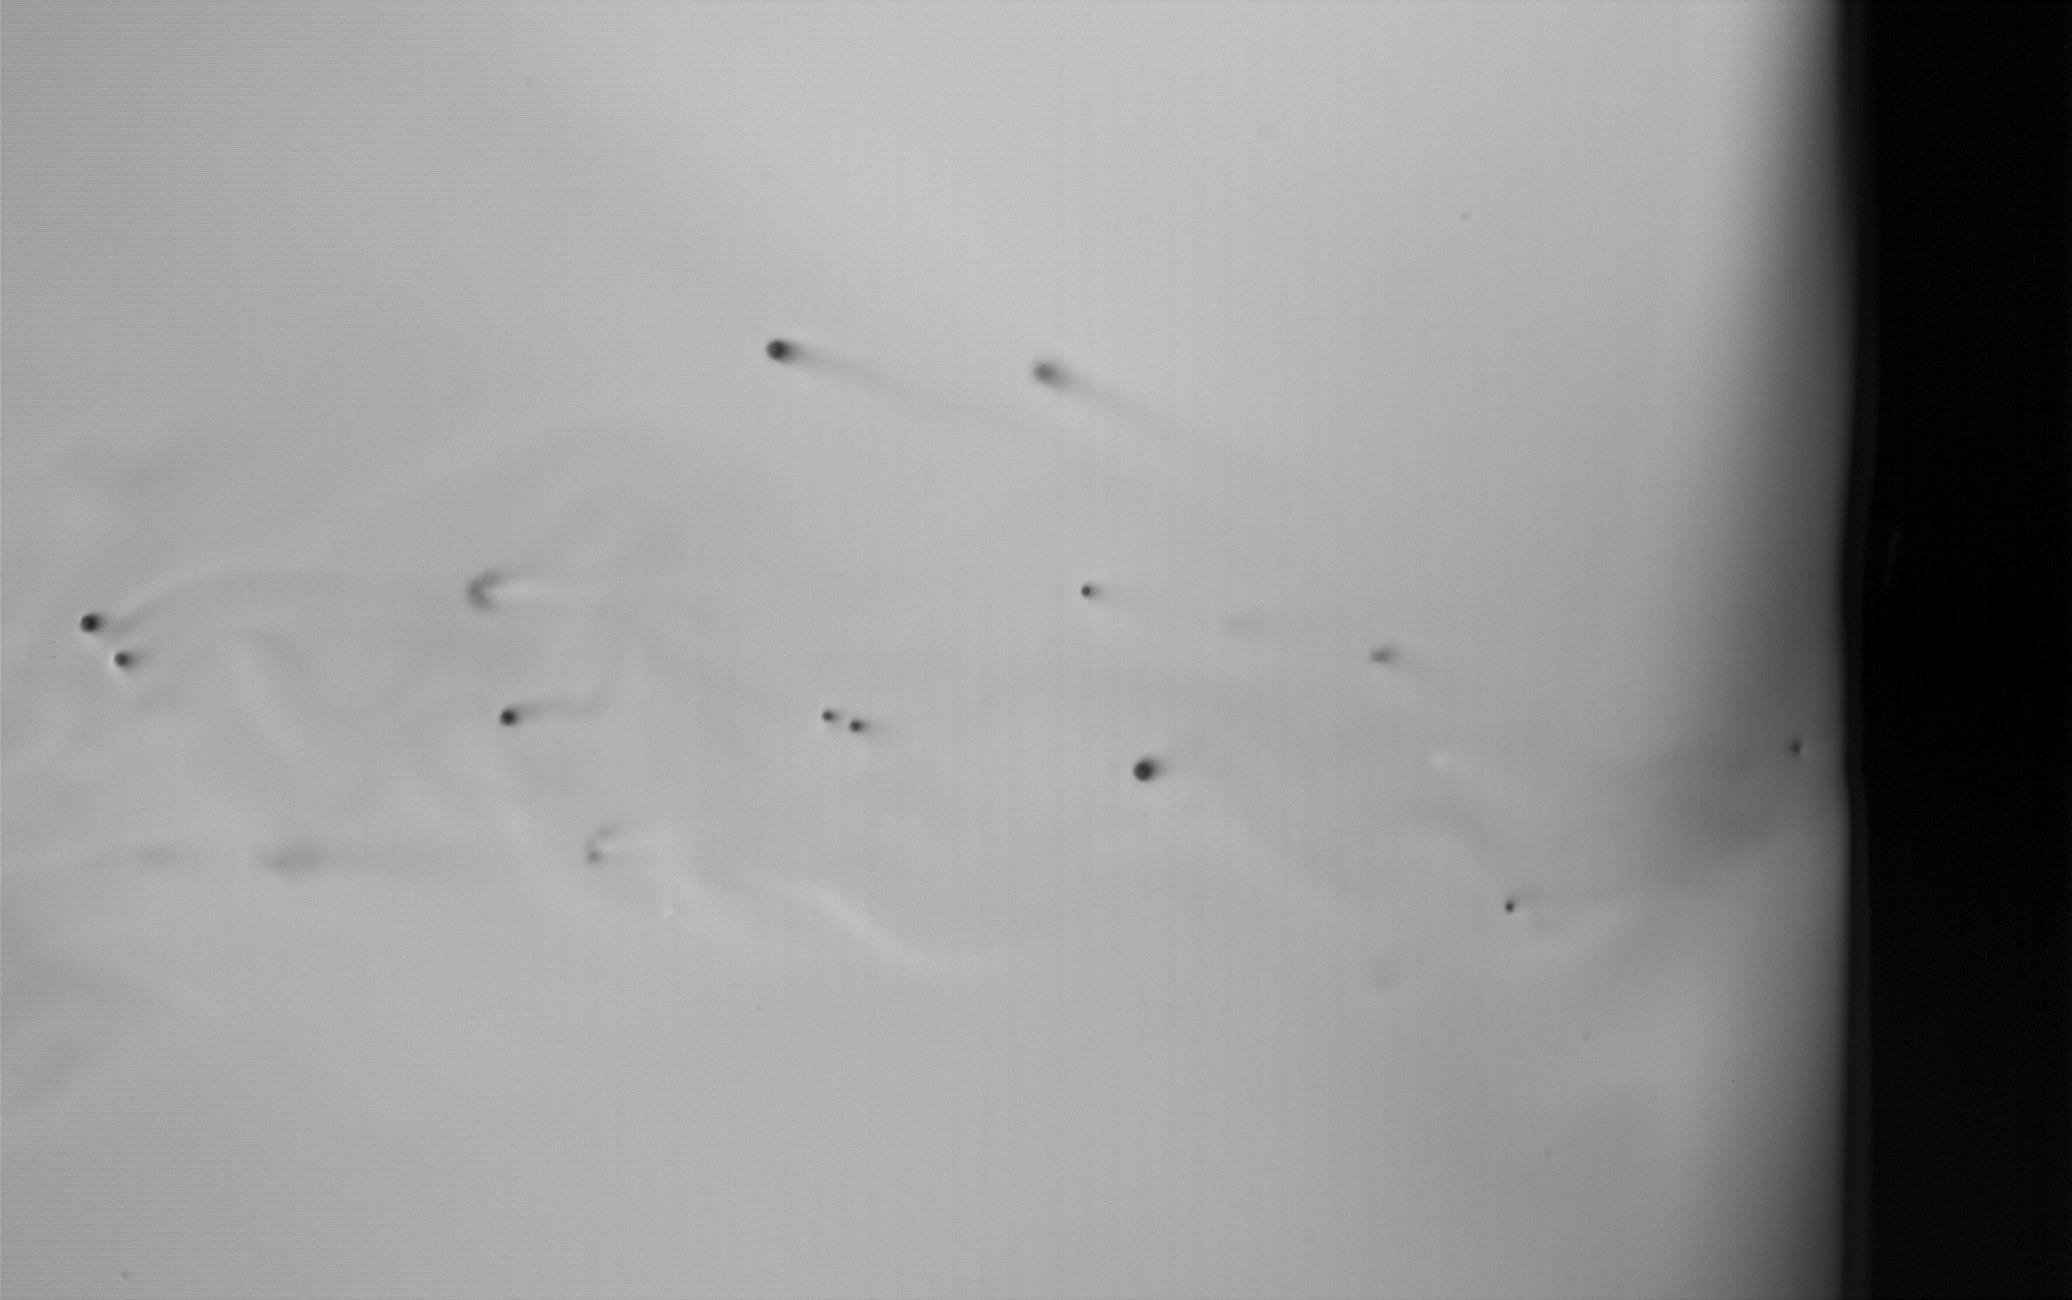Blurry: (575, 821, 630, 875), (1017, 349, 1073, 389), (1359, 640, 1412, 681), (1497, 885, 1535, 923), (1783, 732, 1806, 759)
ClassicalEvaporation: (755, 329, 804, 371), (1126, 749, 1163, 792), (103, 644, 145, 680), (69, 605, 106, 643), (1070, 577, 1102, 616), (493, 701, 525, 732), (814, 701, 838, 729), (844, 717, 871, 741)
DiffusiveMixing: (463, 562, 515, 613)
